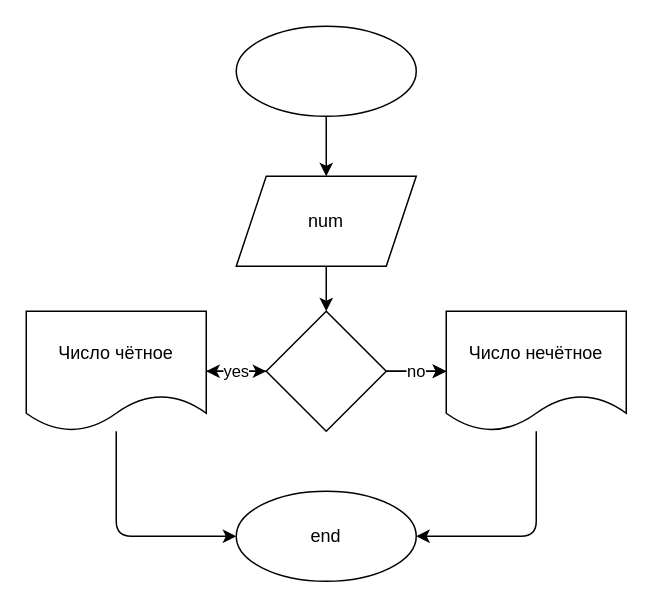
This 653x608 diagram has some shape labels left out. Here are the shapes that lost their labels. From the top down, the centre of each, then its label:
At point 325,70: "start".
At point 325,370: "num % 2 = 0".
